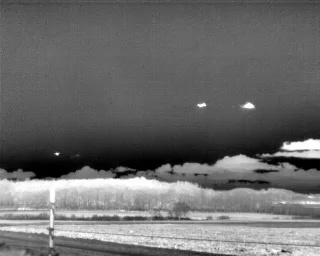DRONE: (194, 99, 210, 112)
